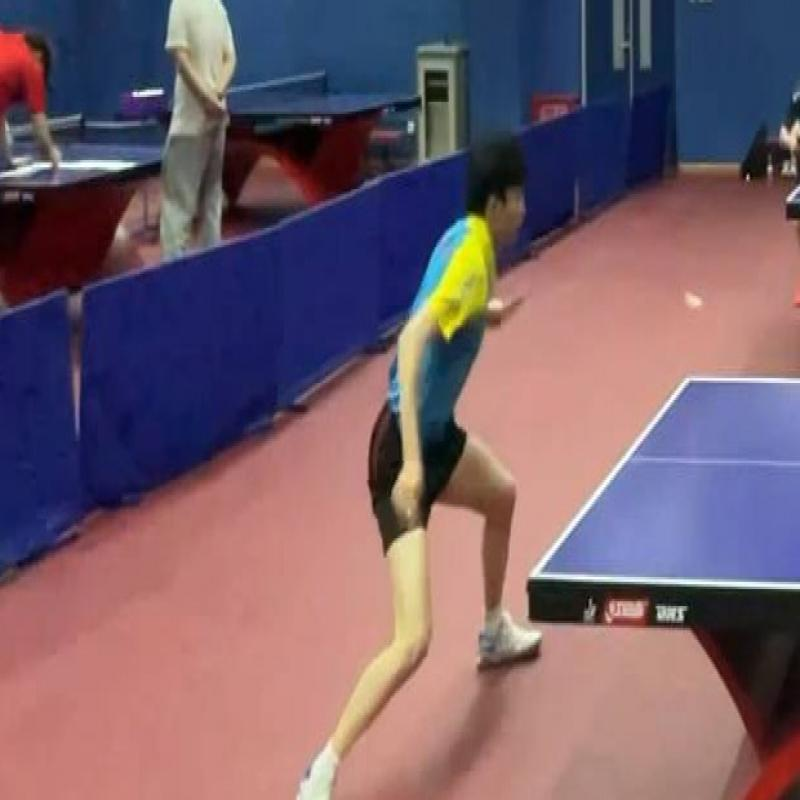bats: (492, 276, 534, 340)
